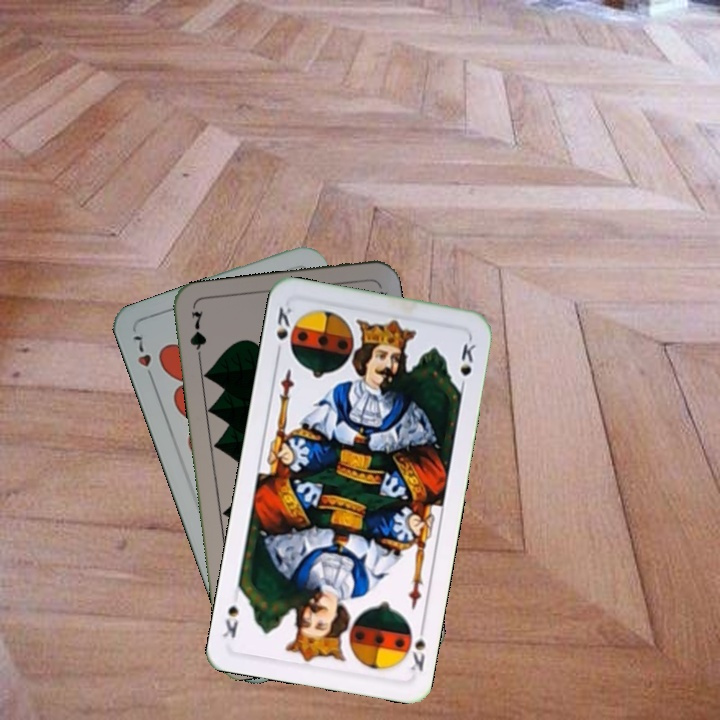G7: (185, 307, 209, 366)
H7: (129, 328, 158, 386)
SK: (400, 619, 428, 674), (272, 303, 295, 360)
